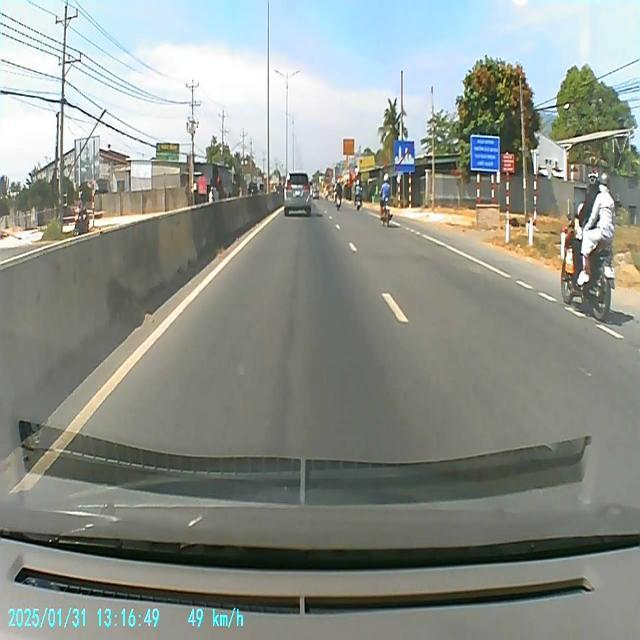421-ket-thuc-khu-dong-dan-cu: (393, 140, 415, 173)
